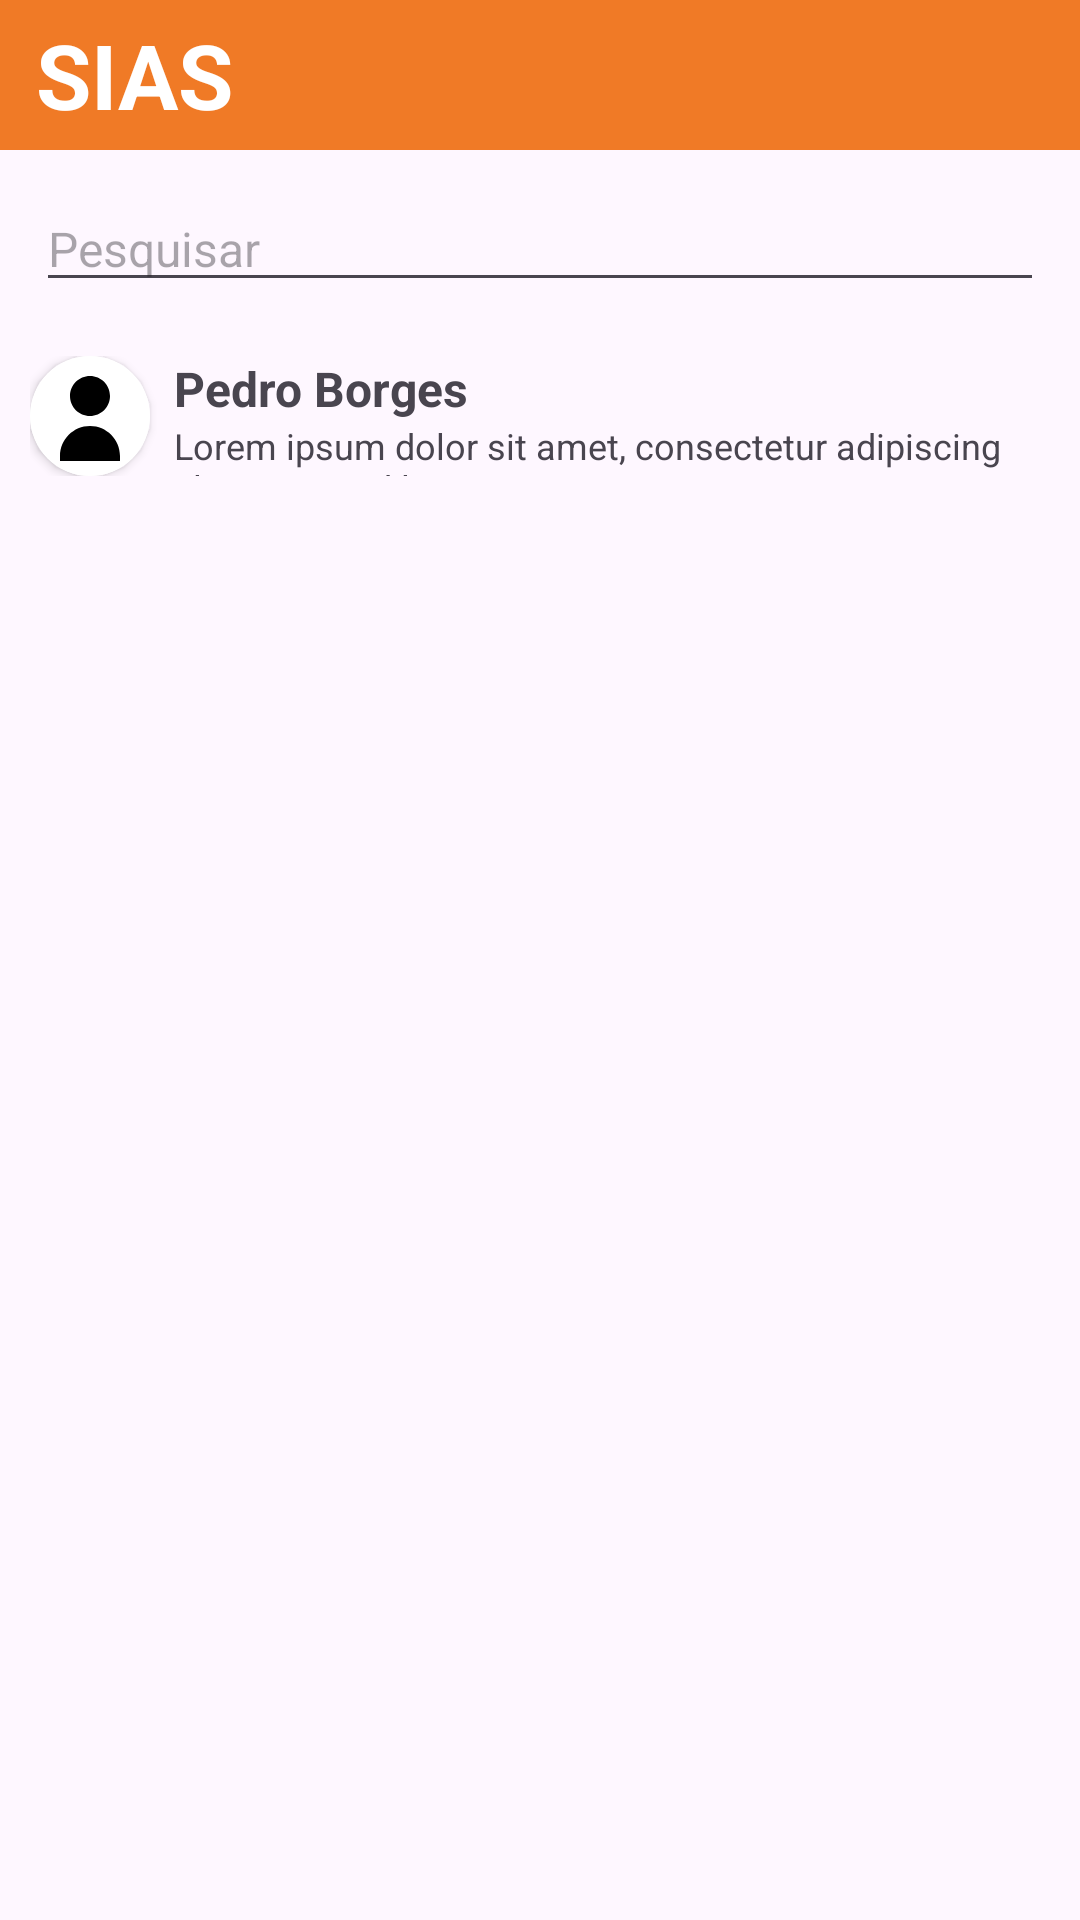

Screen size 1080px×1920px. Icon name, then its box in pixels as (left=x1, top=y1, right=x2, bottom=y2):
person: (left=30, top=356, right=150, bottom=476)
